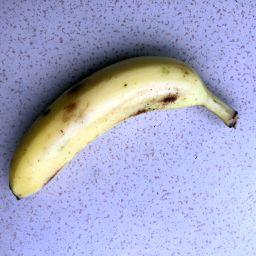Banana Ripe: (6, 49, 241, 202)
